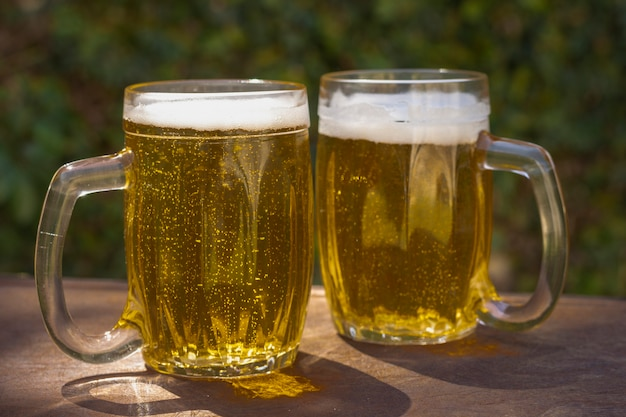alcohol: (35, 84, 315, 381), (315, 69, 567, 349)
